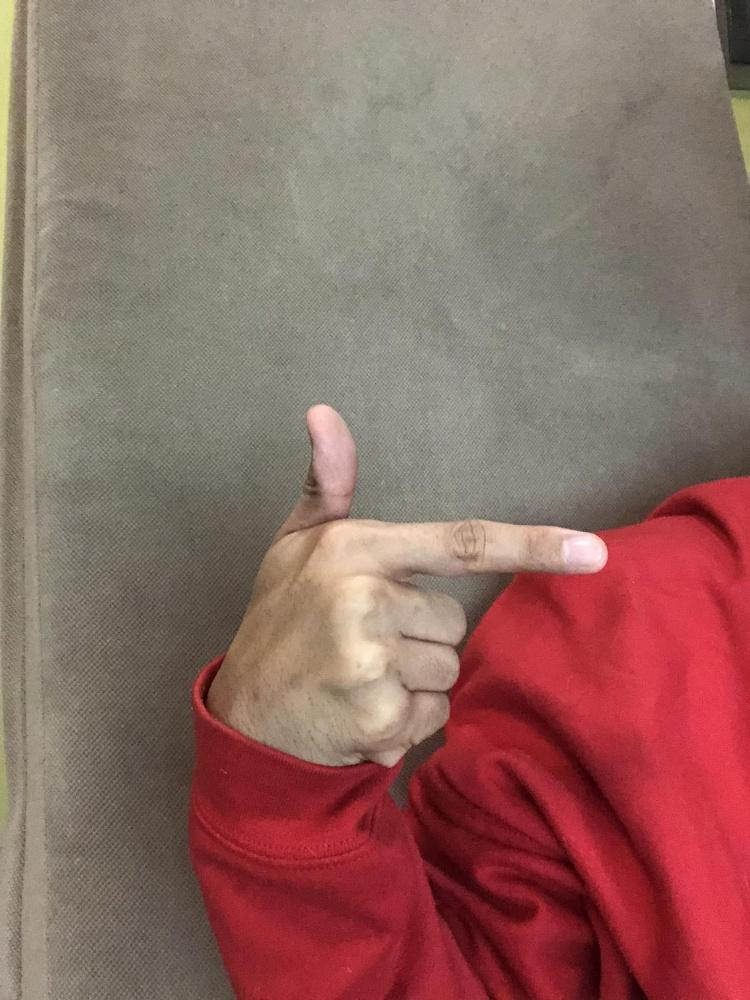g: (214, 399, 609, 767)
